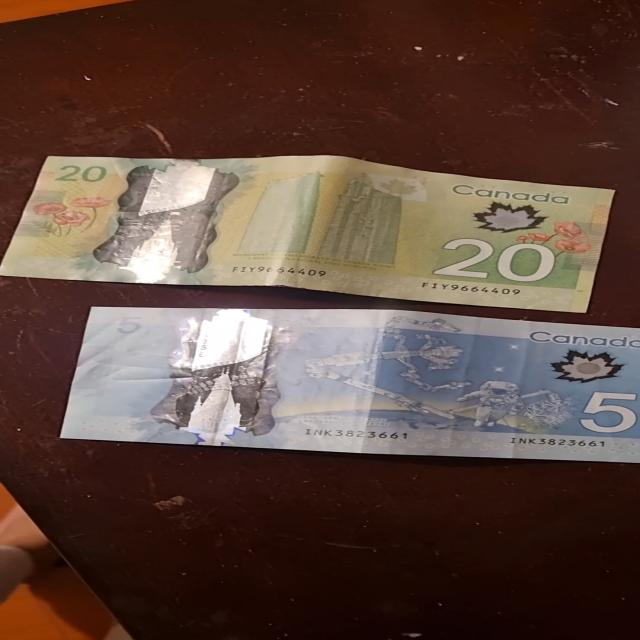20 cad: (0, 155, 613, 313)
5 cad: (62, 306, 640, 463)
